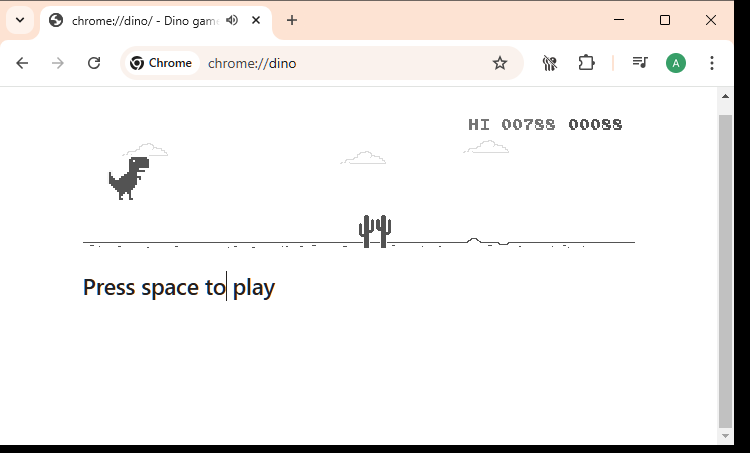cactus: (358, 213, 375, 249), (375, 213, 392, 249)
dino: (107, 155, 150, 201)
